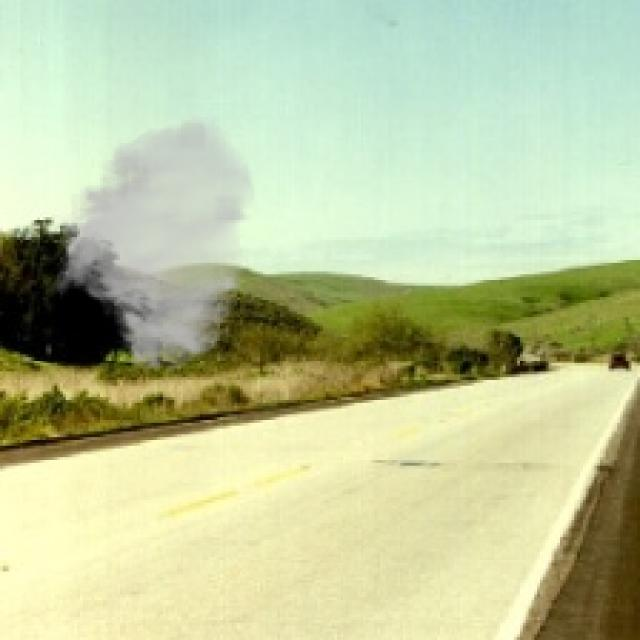smoke: (52, 114, 257, 374)
